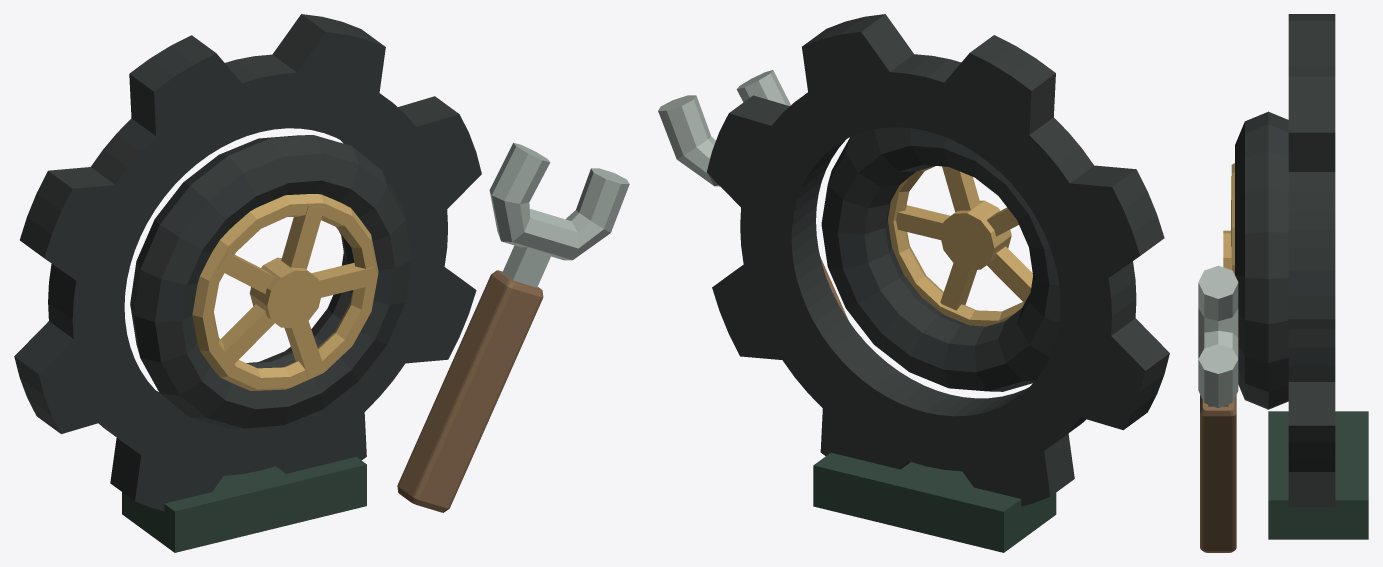
The model's file is 05_Tech_Gear.fbx.
3 renders of one model, left to right at view 1: azimuth 30°, elevation 25°; view 2: azimuth 150°, elevation 25°; view 3: azimuth 270°, elevation 25°, orthographic. The views are drawn at different scales.
Visible parts, largest first — view 1: 05_Tech_Gear__Body, 05_Tech_Gear__Wheel, 05_Tech_Gear__Spanner; view 2: 05_Tech_Gear__Body, 05_Tech_Gear__Wheel, 05_Tech_Gear__Spanner; view 3: 05_Tech_Gear__Body, 05_Tech_Gear__Wheel, 05_Tech_Gear__Spanner.
Part boxes in pixels (x1,y1,x2,y2): 05_Tech_Gear__Body: [14, 14, 481, 552]; 05_Tech_Gear__Wheel: [130, 135, 411, 428]; 05_Tech_Gear__Spanner: [397, 142, 629, 512]; 05_Tech_Gear__Body: [706, 14, 1169, 552]; 05_Tech_Gear__Wheel: [821, 127, 1060, 391]; 05_Tech_Gear__Spanner: [658, 70, 848, 320]; 05_Tech_Gear__Body: [1268, 14, 1368, 539]; 05_Tech_Gear__Wheel: [1223, 111, 1288, 409]; 05_Tech_Gear__Spanner: [1198, 265, 1238, 552].
Size of the model in its own units: 361 by 300 by 102.
2 materials, 2 textured.
